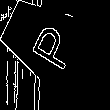P_NW: (23, 16, 77, 73)
